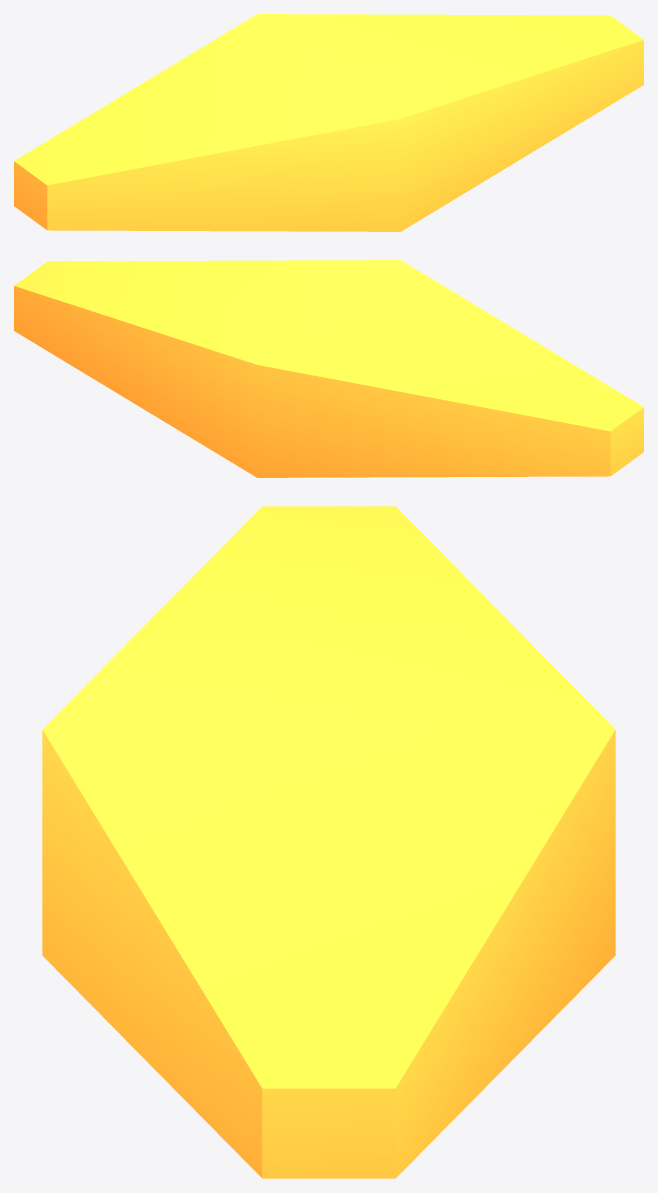
File: gold_and_steel_guard_030.glb
The picture shows the model from 3 angles, top to bottom: view 1: azimuth 30°, elevation 25°; view 2: azimuth 150°, elevation 25°; view 3: azimuth 270°, elevation 25°; orthographic projection. The views are drawn at different scales.
Visible parts, largest first — view 1: gold_and_steel_guard_030; view 2: gold_and_steel_guard_030; view 3: gold_and_steel_guard_030.
Part boxes in pixels (x1,y1,x2,y2): gold_and_steel_guard_030: [14, 14, 643, 231]; gold_and_steel_guard_030: [14, 260, 643, 477]; gold_and_steel_guard_030: [42, 506, 615, 1178].
Bounding box in the file's own units: 6.51 × 1.18 × 2.71.
Materials: 1 (1 with a texture image).
